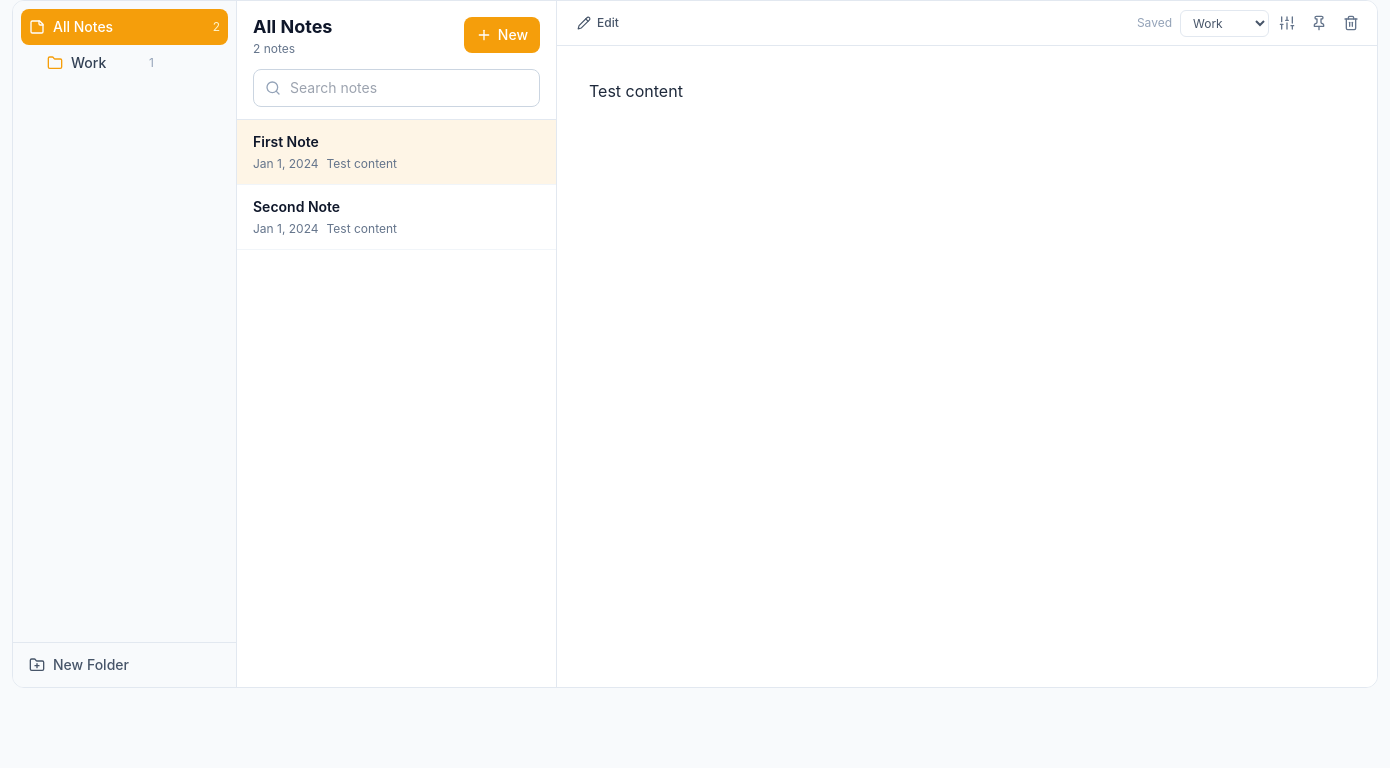
Notes page › should create an empty note ready to write in
Expected: the text "First Note" is shown, [253,133,319,150]
What coordinates should you click on to do the following:
click the button with aria-label "New note"
I would click on:
 (502, 35)
Its box is [464,17,540,53].
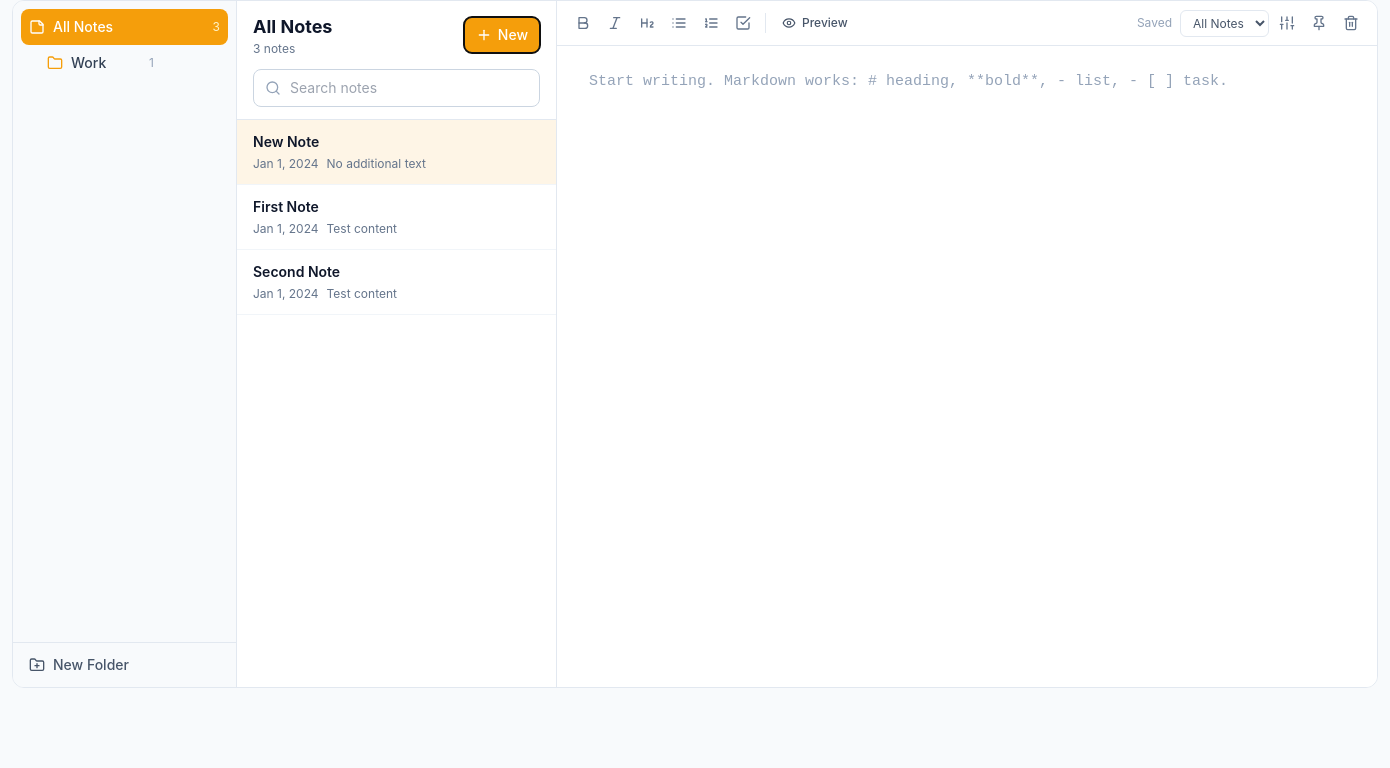
Result: the text box named "Note content" is empty at [557,46,1377,687]
Result: the text "New Note" is shown at [253,133,319,150]
